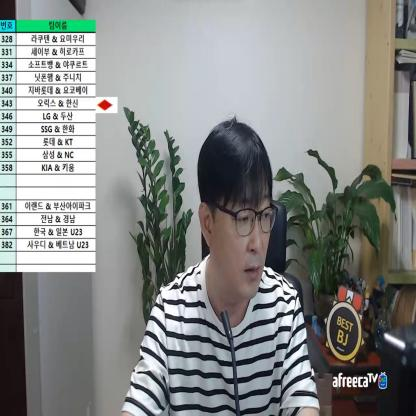streamer: (122, 118, 320, 416)
